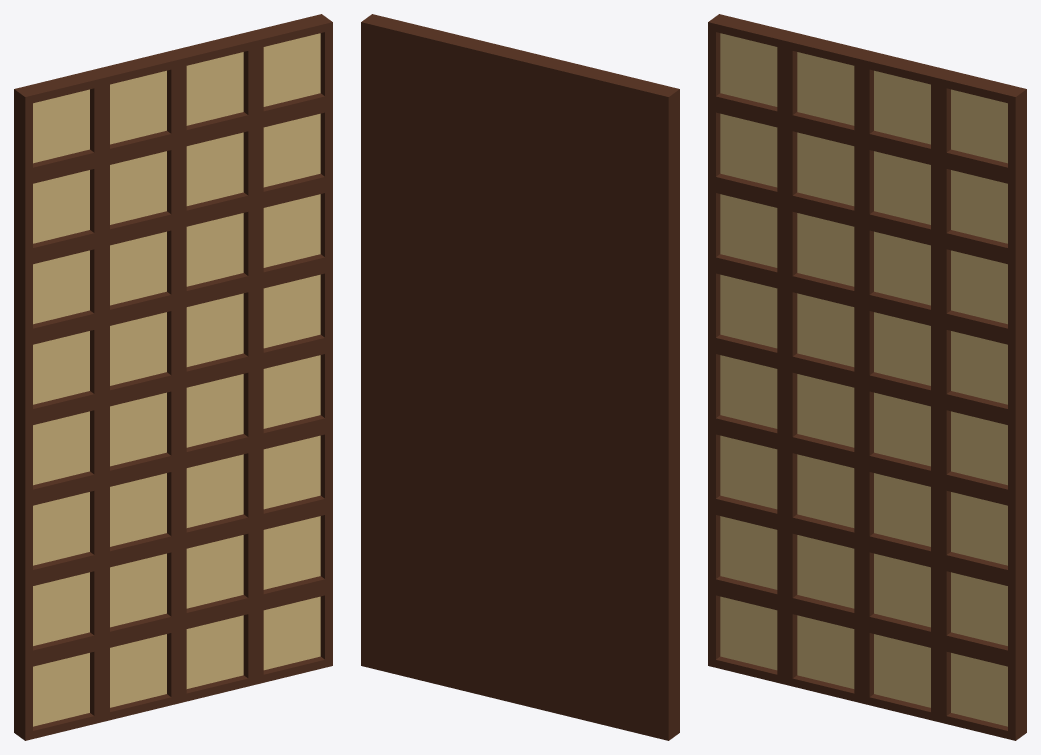
The model's file is Dojo Decorative Piece.fbx.
3 views of the same model, side by side, from view 1: azimuth 30°, elevation 25°; view 2: azimuth 150°, elevation 25°; view 3: azimuth 330°, elevation 25° (orthographic).
Visible parts, largest first — view 1: Dojo Decorative Piece; view 2: Dojo Decorative Piece; view 3: Dojo Decorative Piece.
Boxes of the visible parts, x1,y1,x2,y2 form: Dojo Decorative Piece: (14, 14, 332, 740); Dojo Decorative Piece: (361, 14, 679, 740); Dojo Decorative Piece: (708, 14, 1026, 740).
Bounding box in the file's own units: 400 × 800 × 25.
